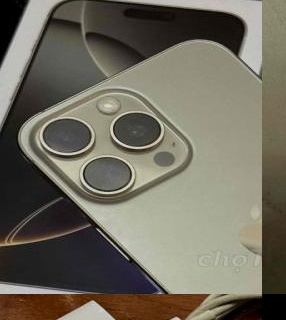scratch: (198, 313, 262, 320)
